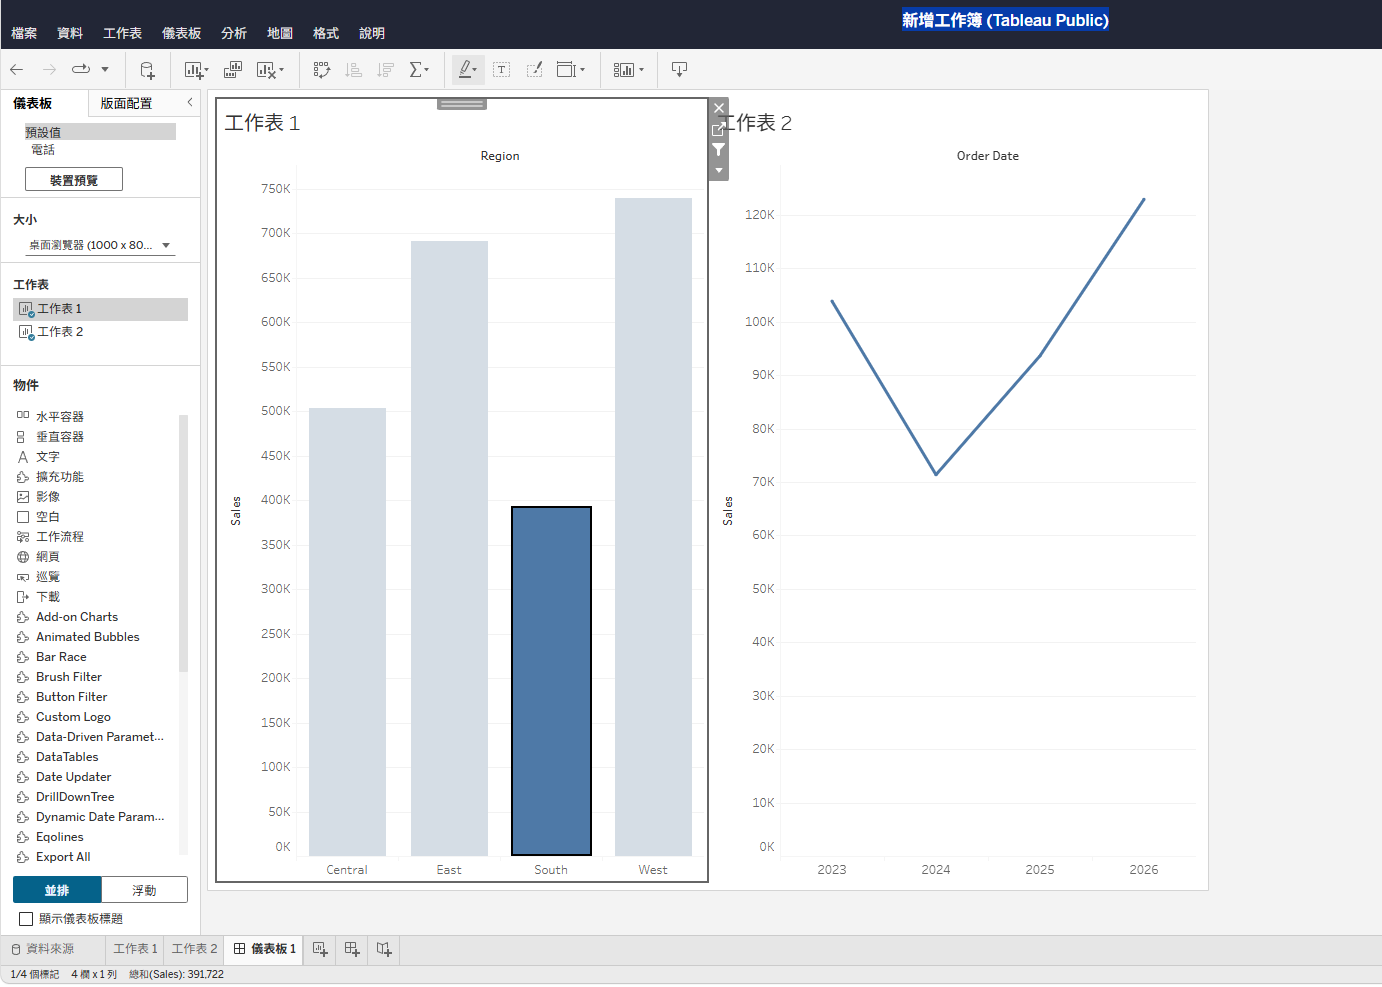

Layout of this report page (visuals, bound fields, positions):
{"tool":"tableau","page":{"name":"儀表板 1","canvas":[1000,800],"ordinal":0},"visuals":[{"type":"worksheet","title":"工作表 1","mark":"Automatic","rows":["Sales"],"cols":["Region"],"box":[8,8,492,784]},{"type":"worksheet","title":"工作表 2","mark":"Automatic","rows":["Sales"],"cols":["Order Date"],"box":[500,8,492,784]}]}

Visuals, with their boxes on the page's 1000x800 design canvas (x1, y1, x2, y2). These are canvas units, not pixel positions in the 1382x987 screenshot, which may show the page scaled, cropped or inside an application window:
"工作表 1" worksheet: 8:8:500:792
"工作表 2" worksheet: 500:8:992:792
